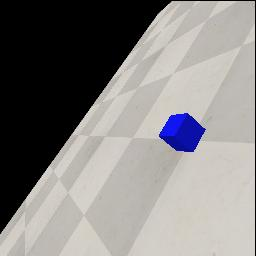box: (159, 113, 206, 152)
